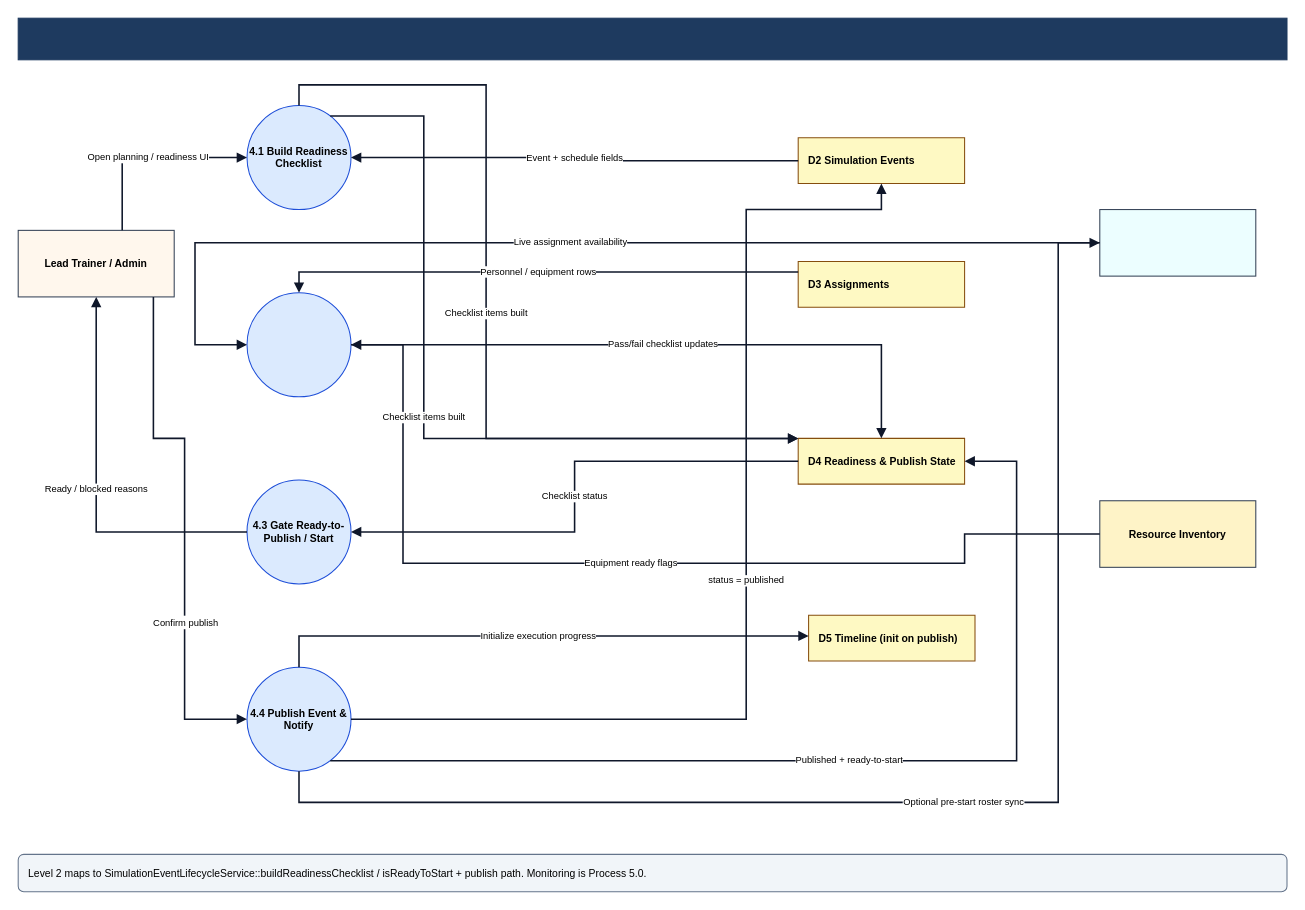
The diagram is 1305 pixels wide and 910 high, and some of its shapes have lost their labels. The shapes that lost their labels are listed below. From the top down, each one's centre as x and y in pixels, then its label:
(x=652, y=38): DFD Level 2 — Process 4.0 Validate Readiness & Publish (Detail)
(x=1177, y=242): CPSQC Patrol
(x=298, y=344): 4.2 Verify Personnel & Equipment
